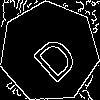D: (24, 26, 81, 85)
